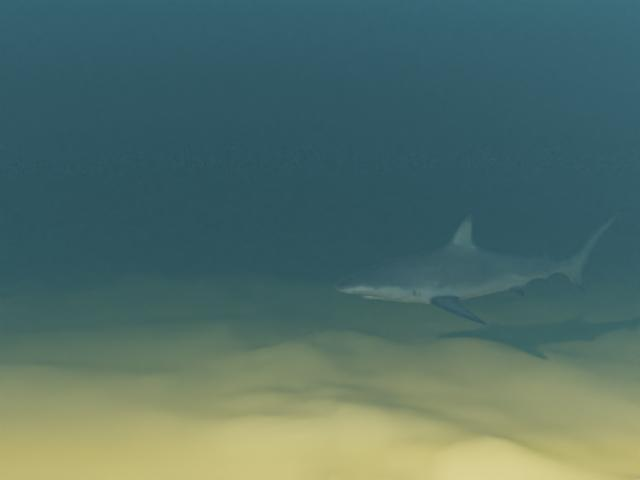Carribean Shark.001: (334, 211, 624, 325)
